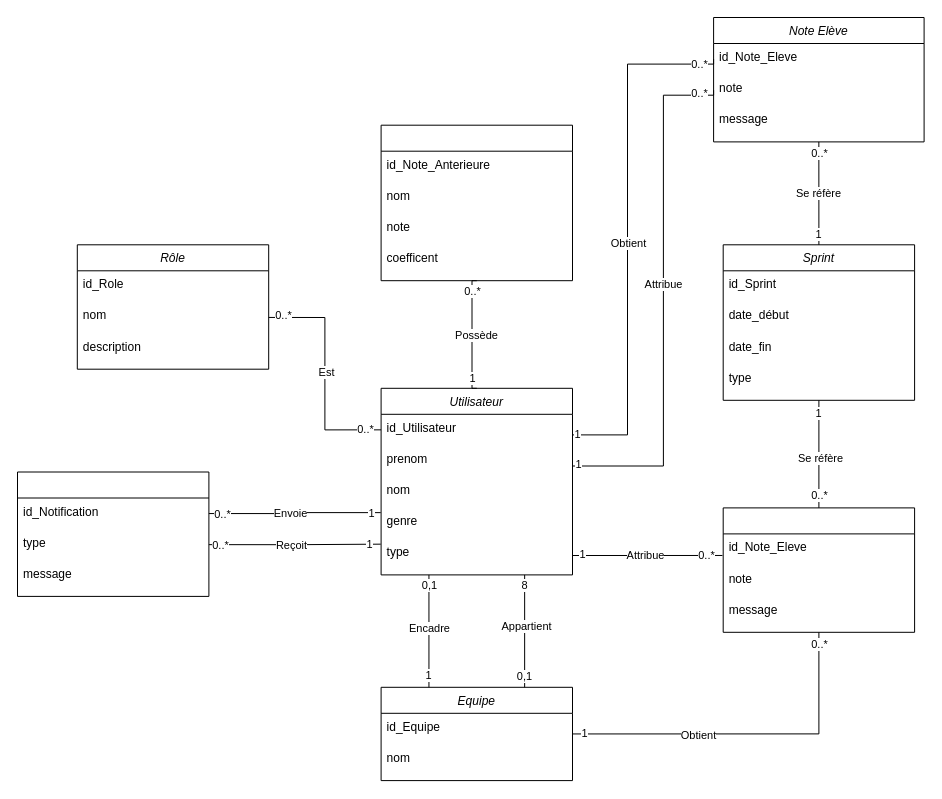
This 942x799 diagram has some shape labels left out. The box of each missing label's shape, as (x1, y1, x2, y2) in pixels:
Note Antérieure: (380, 124, 572, 281)
Note Equipe: (722, 507, 915, 632)
Notifications: (16, 471, 209, 596)
